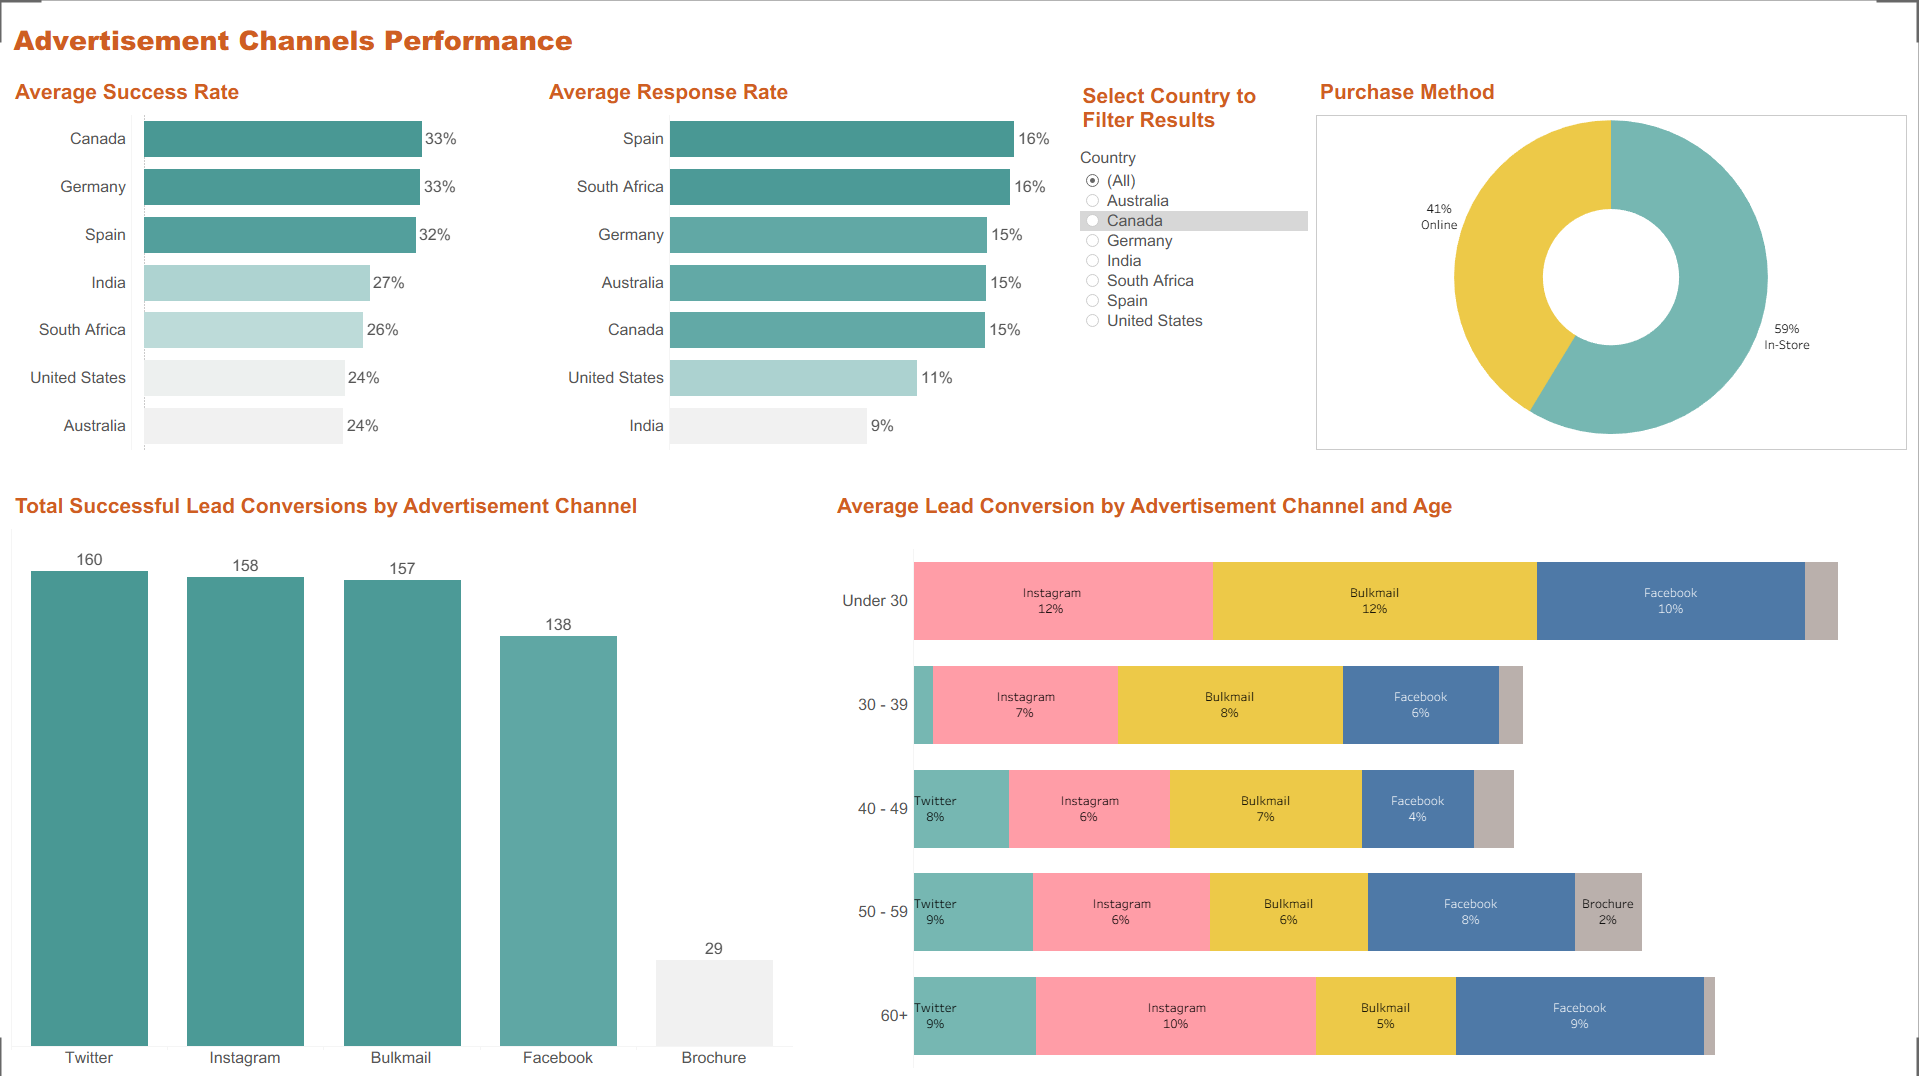

Layout of this report page (visuals, bound fields, positions):
{"tool":"tableau","page":{"name":"Advertisement Channels","canvas":[1366,768],"ordinal":1},"visuals":[{"type":"text","box":[8,8,1350,32]},{"type":"worksheet","title":"Average Success Rate","mark":"Automatic","rows":["Country"],"cols":["Count_success"],"box":[8,40,384,372]},{"type":"worksheet","title":"Average Response Rate","mark":"Automatic","rows":["Country"],"cols":["Response"],"box":[392,40,374,372]},{"type":"filter","title":"Purchase Method","param":"[federated.1kk2em70emojga11suiy405n0gpr].[none:Country:nk]","box":[766,40,167,327]},{"type":"worksheet","title":"Purchase Method","mark":"Pie","rows":["Calculation_612771050802892817","Calculation_612771050802901011"],"box":[933,40,425,287]},{"type":"legend","title":"Purchase Method","param":"[federated.1kk2em70emojga11suiy405n0gpr].[:Measure Names]","box":[933,327,425,85]},{"type":"worksheet","title":"Total Successful Lead Conversions by Advertisement Channel","mark":"Automatic","box":[8,412,403,348]},{"type":"worksheet","title":"Average Lead Conversion by Advertisement Channel and Age","mark":"Automatic","box":[411,412,947,348]}]}

Visuals, with their boxes in screenshot pixels (x1, y1, x2, y2), scaled from the page's 1366x768 canvas onto the 1919x1076 screenshot:
text: <box>11,11,1908,56</box>
"Average Success Rate" worksheet: <box>11,56,551,577</box>
"Average Response Rate" worksheet: <box>551,56,1076,577</box>
"Purchase Method" filter: <box>1076,56,1311,514</box>
"Purchase Method" worksheet (Pie marks): <box>1311,56,1908,458</box>
"Purchase Method" legend: <box>1311,458,1908,577</box>
"Total Successful Lead Conversions by Advertisement Channel" worksheet: <box>11,577,577,1065</box>
"Average Lead Conversion by Advertisement Channel and Age" worksheet: <box>577,577,1908,1065</box>
